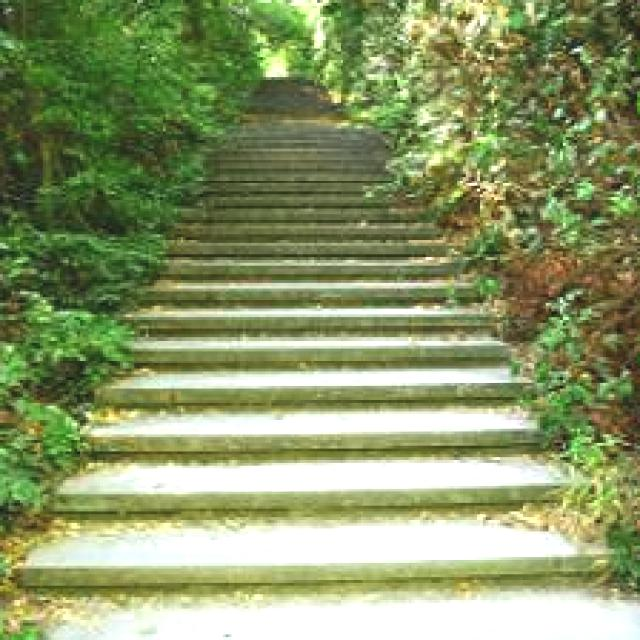upstair: (75, 310, 581, 573)
